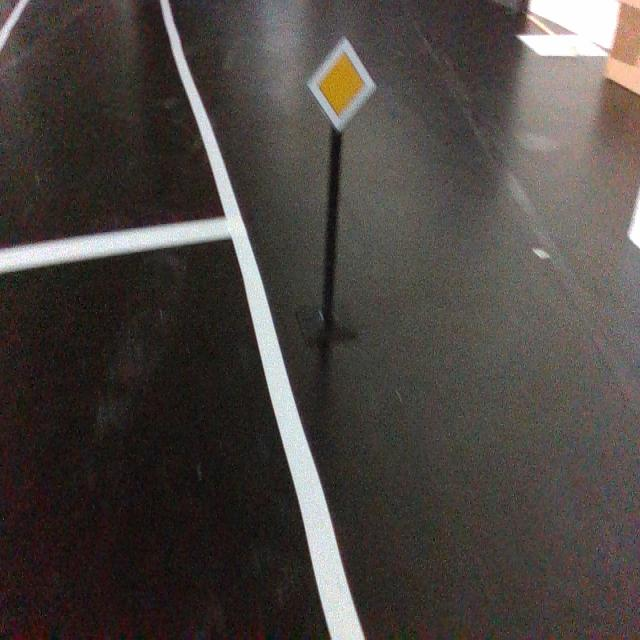priority-sign: (304, 33, 379, 135)
